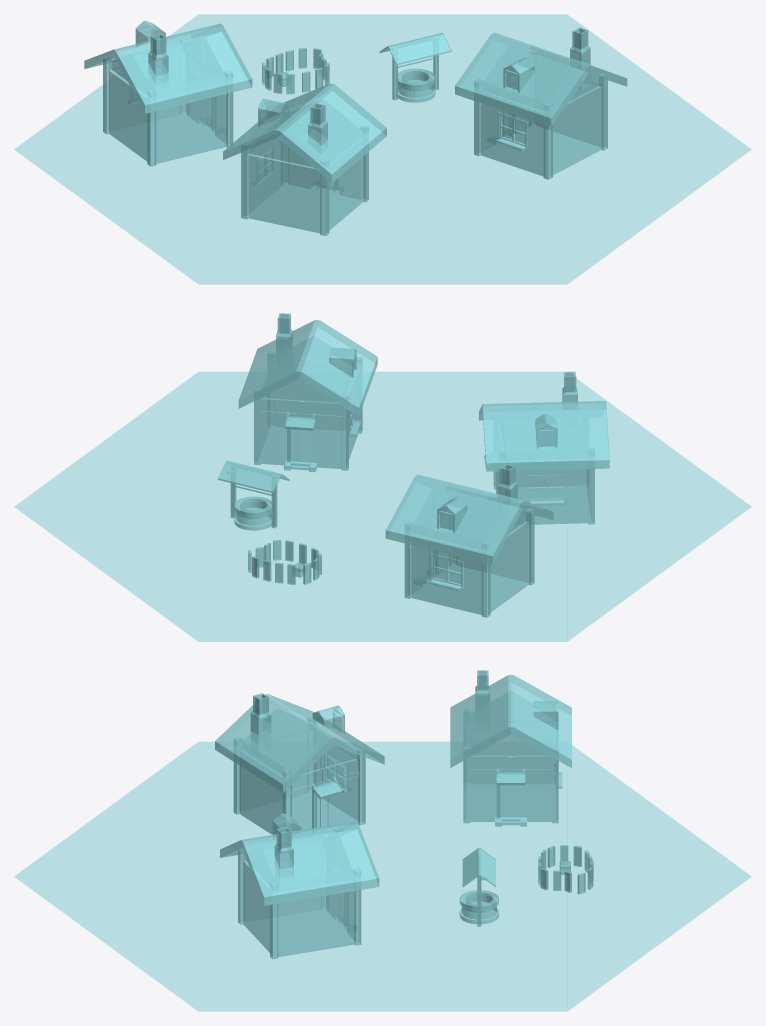
The model's file is House_blueprint_fbx.fbx.
3 views of the same model, one above another, from view 1: azimuth 30°, elevation 25°; view 2: azimuth 150°, elevation 25°; view 3: azimuth 270°, elevation 25° (orthographic).
Parts seen in each view (by area): view 1: 圆环; view 2: 圆环; view 3: 圆环.
Part boxes in pixels (x1=…): 圆环: x1=14, y1=14, x2=751, y2=284; 圆环: x1=14, y1=313, x2=751, y2=641; 圆环: x1=14, y1=670, x2=751, y2=1011.
Size of the model in its own units: 520 by 106 by 600.
